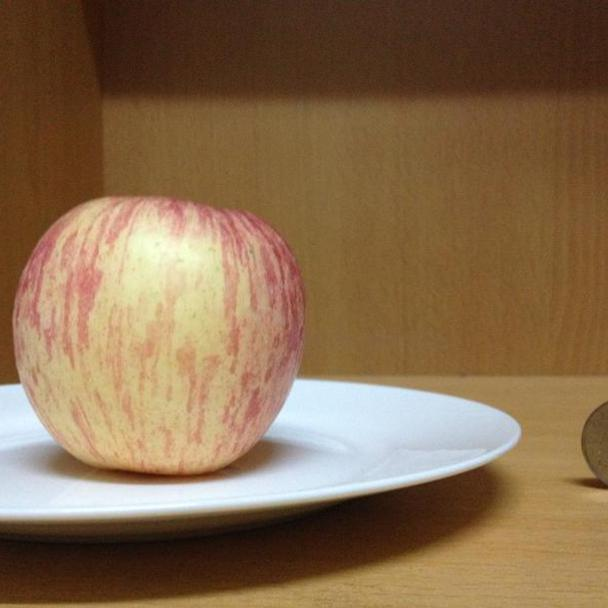apple: (13, 195, 308, 476)
